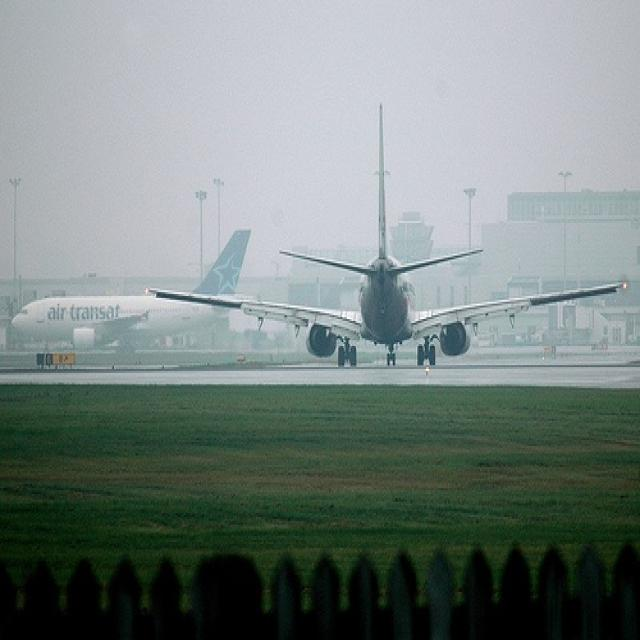aeroplane: (151, 100, 625, 363), (12, 230, 250, 350)
